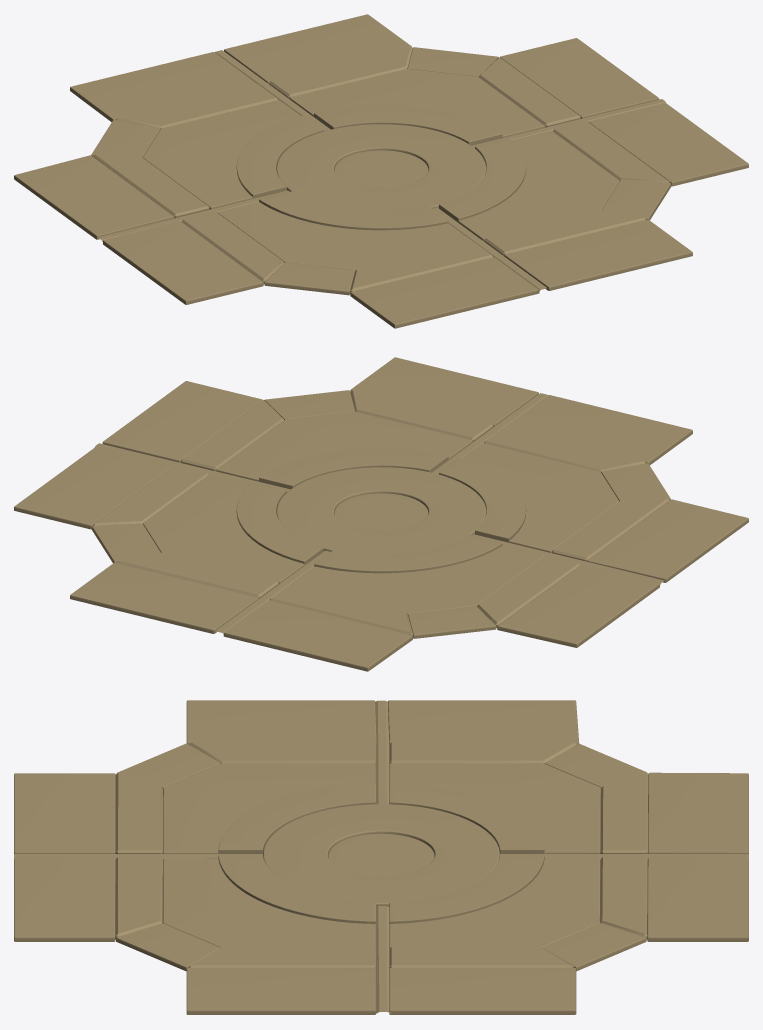
Rendered from FloorScifi02.fbx.
3 views of the same model, one above another, from view 1: azimuth 30°, elevation 25°; view 2: azimuth 150°, elevation 25°; view 3: azimuth 270°, elevation 25° (orthographic). The views are drawn at different scales.
Visible parts, largest first — view 1: Floor02; view 2: Floor02; view 3: Floor02.
Part boxes in pixels (box(x1,y1,x2,y2)): Floor02: box(14, 14, 748, 328); Floor02: box(14, 357, 748, 671); Floor02: box(14, 700, 748, 1014).
Bounding box in the file's own units: 21487 × 247 × 21432.
